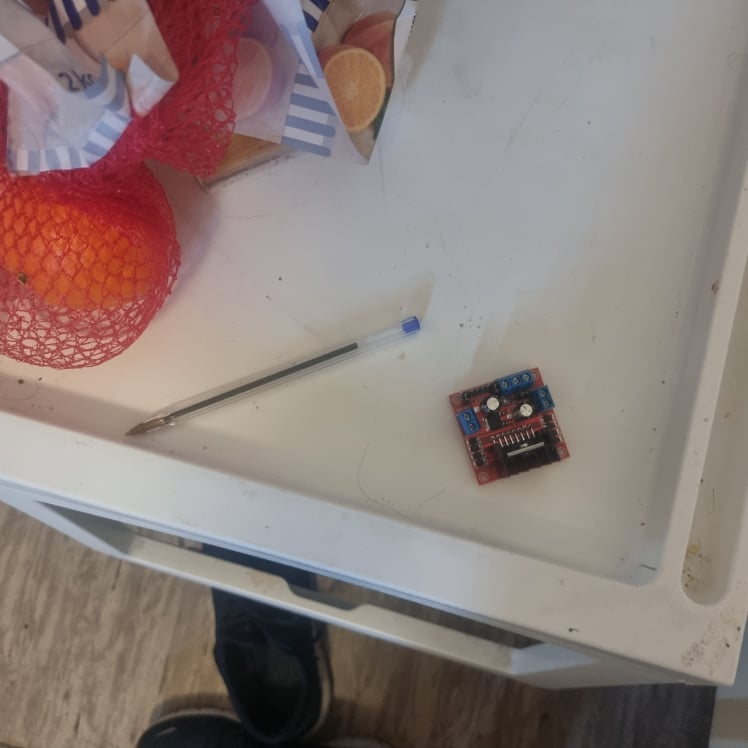MOTOR: (447, 365, 576, 488)
